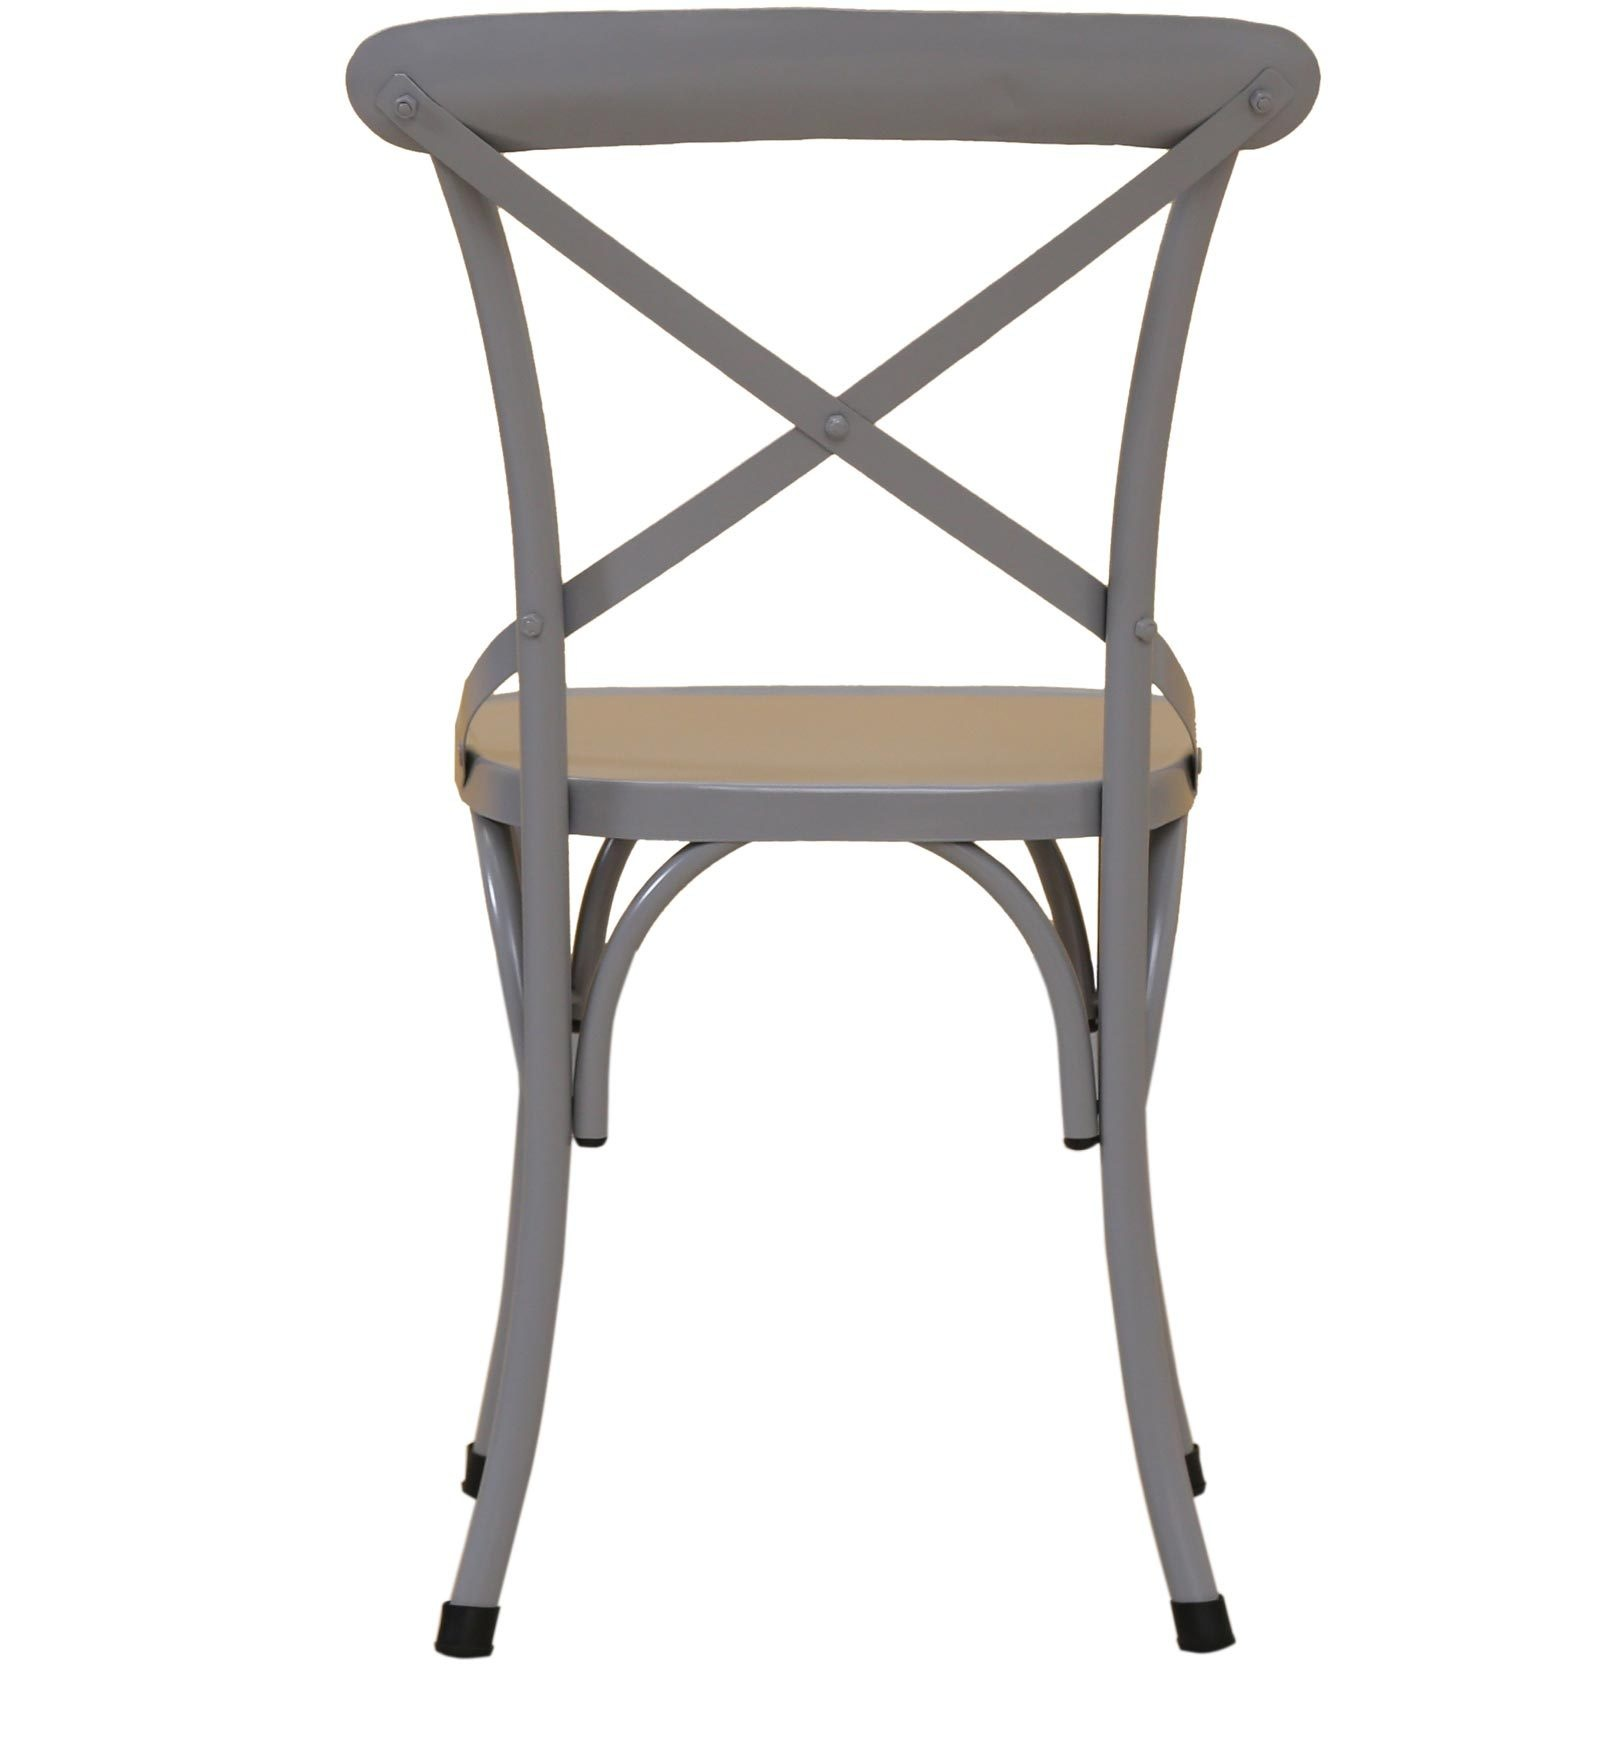Fabian Metal Chair in Steel Grey Color by Bohemiana: (333, 2, 1379, 1712)
